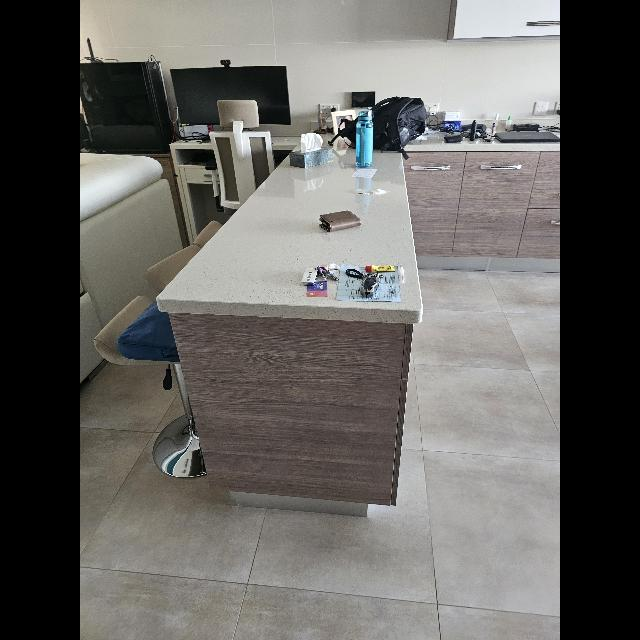Keys: (316, 262, 339, 280)
Wallet: (319, 210, 361, 232), (443, 134, 463, 142)
